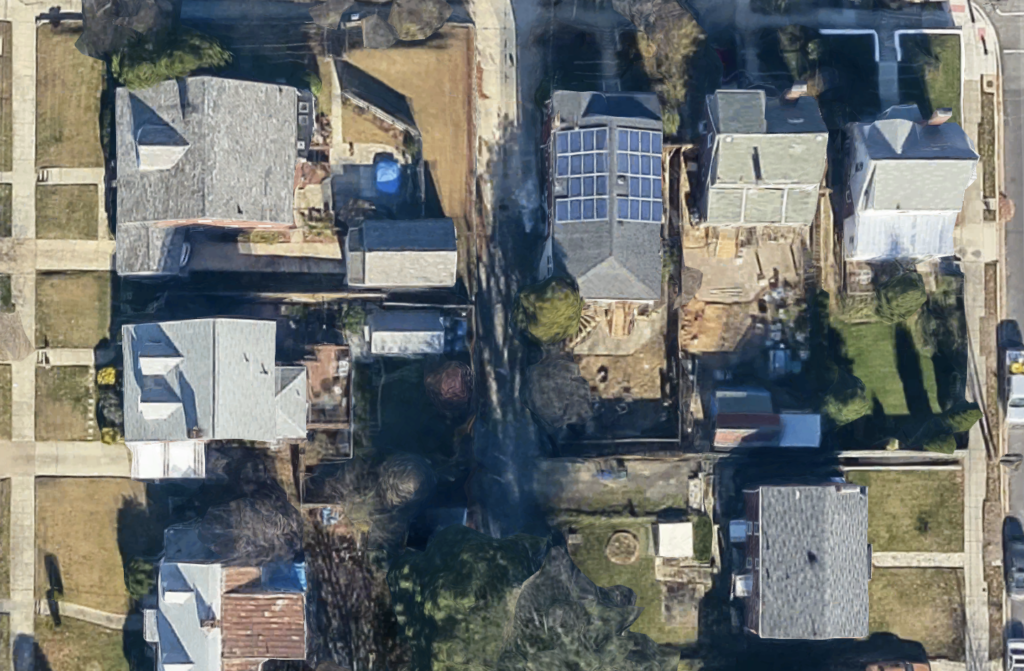solar-panel: (556, 127, 665, 219)
